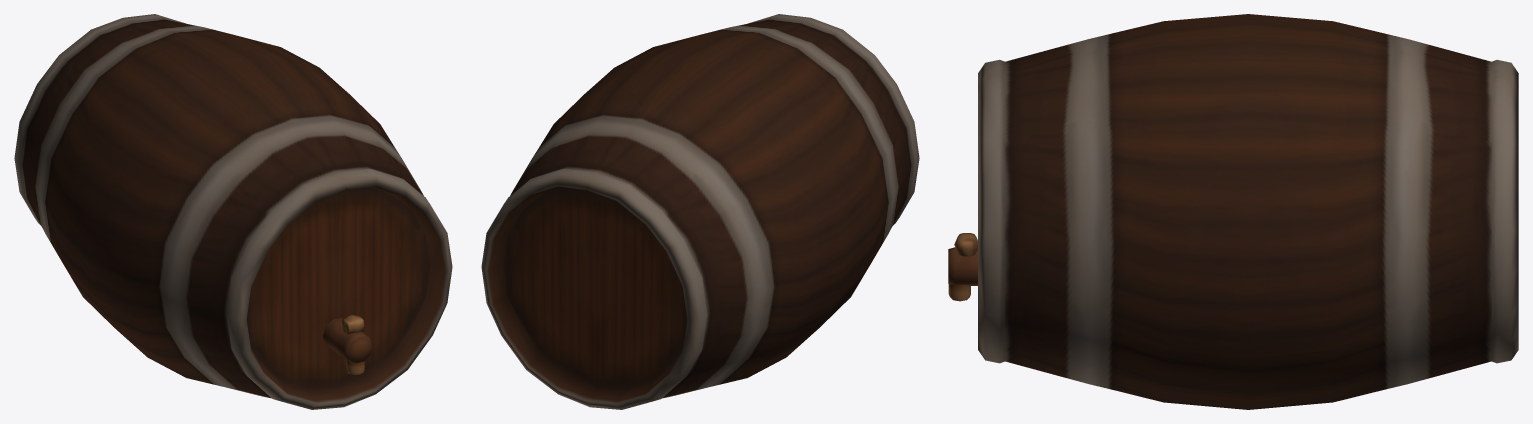
The model's file is BarrelKeg_Fix.fbx.
3 views of the same model, side by side, from view 1: azimuth 30°, elevation 25°; view 2: azimuth 150°, elevation 25°; view 3: azimuth 270°, elevation 25° (orthographic). The views are drawn at different scales.
Visible parts, largest first — view 1: DinnerScene:DinnerScene:Barrel2, DinnerScene:Tap; view 2: DinnerScene:DinnerScene:Barrel2; view 3: DinnerScene:DinnerScene:Barrel2, DinnerScene:Tap.
Boxes of the visible parts, bbox=[...] form: DinnerScene:DinnerScene:Barrel2: bbox=[14, 14, 452, 409]; DinnerScene:Tap: bbox=[323, 317, 372, 363]; DinnerScene:DinnerScene:Barrel2: bbox=[481, 14, 919, 409]; DinnerScene:DinnerScene:Barrel2: bbox=[978, 14, 1518, 409]; DinnerScene:Tap: bbox=[948, 247, 977, 285].
Bounding box in the file's own units: 8.93 × 8.96 × 12.69.
